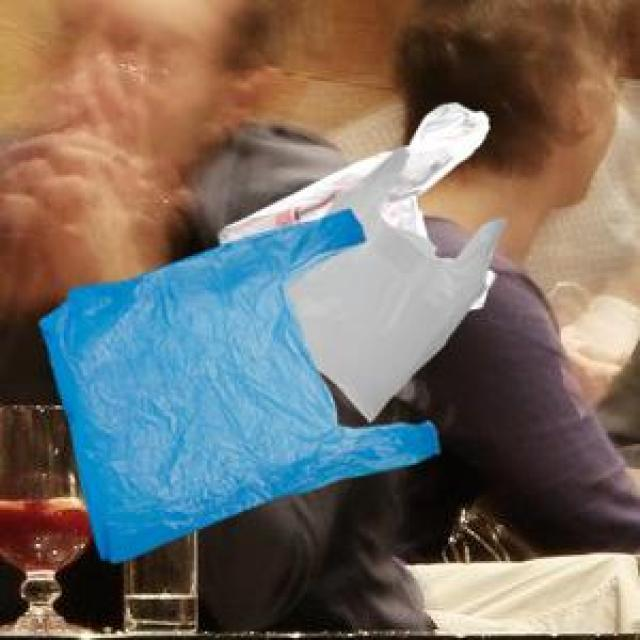waste: (41, 104, 504, 561)
